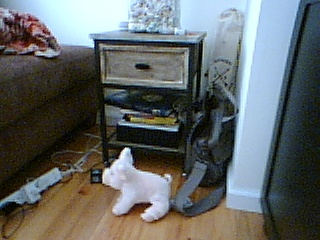piggy: (101, 147, 173, 223)
